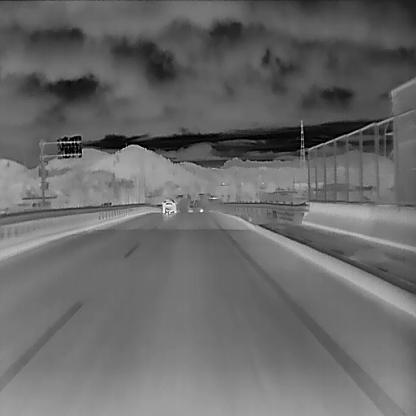car: (162, 198, 178, 212)
